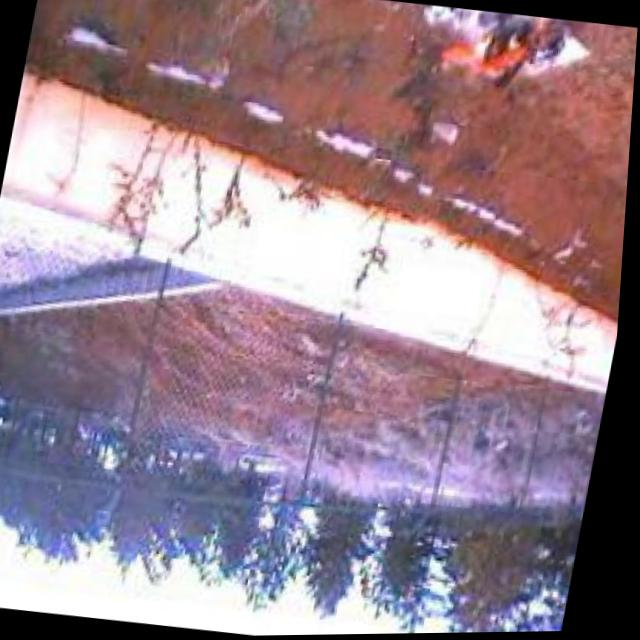Fire: (435, 7, 572, 97)
